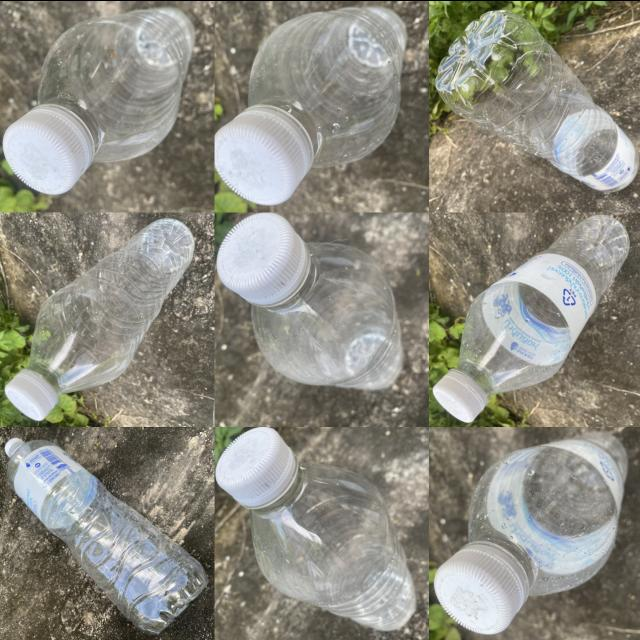plastik: (432, 214, 630, 422), (216, 427, 416, 630), (5, 437, 207, 633), (434, 431, 627, 633), (5, 217, 195, 419), (215, 6, 406, 204), (436, 10, 638, 191), (3, 6, 194, 193), (217, 212, 402, 389)
